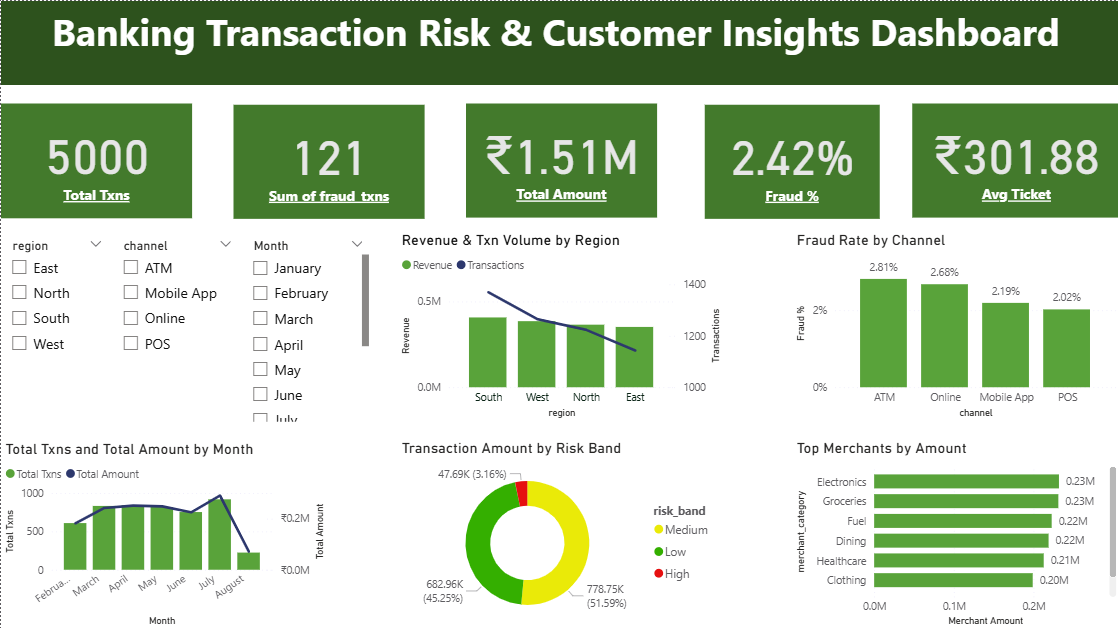

The dashboard page shown, as its layout file describes it:
{"tool":"powerbi","page":{"name":"Page 1","canvas":[1280,720],"ordinal":0},"visuals":[{"type":"card","fields":{"Values":["v_monthly_trend2.Total Txns"]},"box":[0,117.1,218.6,131.4],"z":0},{"type":"textbox","box":[0,0,1280.3,96.1],"z":1000},{"type":"card","fields":{"Values":["v_monthly_trend2.Total Amount"]},"box":[531.4,117.1,218.6,130],"z":2000},{"type":"card","fields":{"Values":["Sum(v_channel_fraud1.fraud_txns)"]},"box":[265.7,118.6,218.6,130],"z":3000},{"type":"card","fields":{"Values":["cleaned_bank_transactions.Fraud %"]},"box":[804.3,118.6,200,130],"z":4000},{"type":"card","fields":{"Values":["v_monthly_trend2.Avg Ticket"]},"box":[1041.4,117.1,238.6,130],"z":5000},{"type":"lineClusteredColumnComboChart","fields":{"Category":["v_monthly_trend2.month.Variation.Date Hierarchy.Month"],"Y2":["v_monthly_trend2.Total Amount"],"Y":["v_monthly_trend2.Total Txns"]},"box":[0,501.4,375.7,218.6],"z":6000},{"type":"lineClusteredColumnComboChart","title":"Revenue & Txn Volume by Region","fields":{"Category":["v_region_perf5.region"],"Y":["Sum(v_region_perf5.amount)"],"Y2":["Sum(v_region_perf5.txns)"]},"box":[452.9,262.9,375.7,218.6],"z":7000},{"type":"columnChart","title":"Fraud Rate by Channel","fields":{"Category":["v_channel_fraud1.channel"],"Y":["cleaned_bank_transactions.Fraud %"]},"box":[904.3,262.9,375.7,218.6],"z":8000},{"type":"donutChart","title":"Transaction Amount by Risk Band","fields":{"Y":["Sum(v_risk_band4.amount)"],"Category":["v_risk_band4.risk_band"]},"box":[452.9,500,375.7,220],"z":9000},{"type":"clusteredBarChart","title":"Top Merchants by Amount","fields":{"Category":["v_top_merchant3.merchant_category"],"Y":["v_top_merchant3.Merchant Amount"]},"box":[904.3,500,375.7,220],"z":10000},{"type":"slicer","fields":{"Values":["v_region_perf5.region"]},"box":[0,265.7,127.1,160],"z":10001},{"type":"slicer","fields":{"Values":["v_channel_fraud1.channel"]},"box":[127.1,265.7,148.6,160],"z":10002},{"type":"slicer","fields":{"Values":["v_monthly_trend2.month.Variation.Date Hierarchy.Month"]},"box":[275.7,265.7,150,220],"z":10003}]}

Visuals, with their boxes in screenshot pixels (x1, y1, x2, y2), scaled from the page's 1280x720 canvas onto the 1118x628 screenshot:
card - v_monthly_trend2.Total Txns: bbox=[0, 102, 191, 217]
textbox: bbox=[0, 0, 1117, 84]
card - v_monthly_trend2.Total Amount: bbox=[464, 102, 655, 216]
card - Sum(v_channel_fraud1.fraud_txns): bbox=[232, 103, 423, 217]
card - cleaned_bank_transactions.Fraud %: bbox=[703, 103, 877, 217]
card - v_monthly_trend2.Avg Ticket: bbox=[910, 102, 1117, 216]
lineClusteredColumnComboChart - v_monthly_trend2.month.Variation.Date Hierarchy.Month x v_monthly_trend2.Total Amount: bbox=[0, 437, 328, 627]
"Revenue & Txn Volume by Region" lineClusteredColumnComboChart: bbox=[396, 229, 724, 420]
"Fraud Rate by Channel" columnChart: bbox=[790, 229, 1117, 420]
"Transaction Amount by Risk Band" donutChart: bbox=[396, 436, 724, 627]
"Top Merchants by Amount" clusteredBarChart: bbox=[790, 436, 1117, 627]
slicer - v_region_perf5.region: bbox=[0, 232, 111, 371]
slicer - v_channel_fraud1.channel: bbox=[111, 232, 241, 371]
slicer - v_monthly_trend2.month.Variation.Date Hierarchy.Month: bbox=[241, 232, 372, 424]
